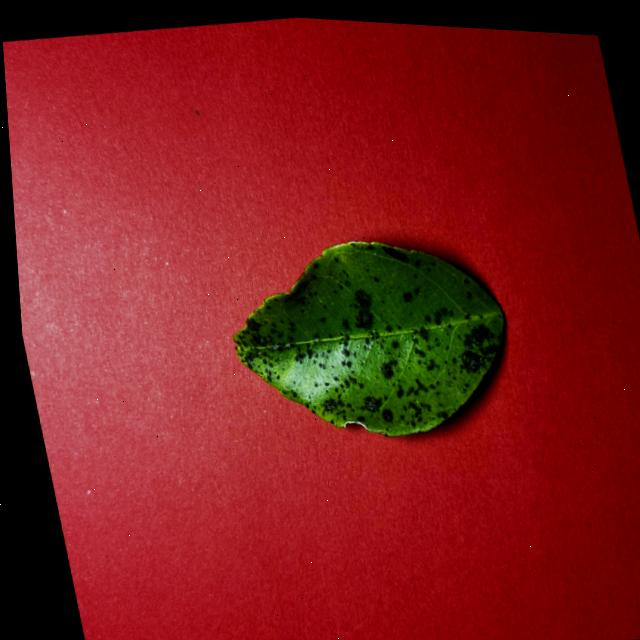sooty_mold: (233, 242, 502, 436)
